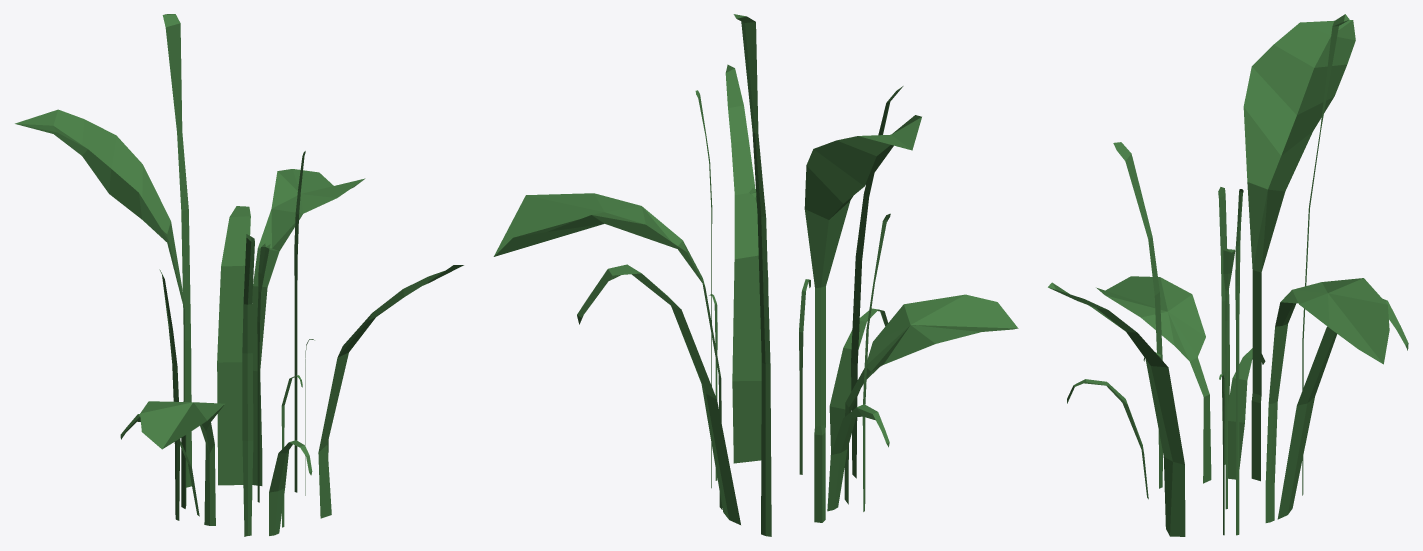
Rendered from Weed02.gltf.
3 views of the same model, side by side, from view 1: azimuth 30°, elevation 25°; view 2: azimuth 150°, elevation 25°; view 3: azimuth 270°, elevation 25° (orthographic). The views are drawn at different scales.
Visible parts, largest first — view 1: Plane; view 2: Plane; view 3: Plane.
Part boxes in pixels (x1,y1,x2,y2): Plane: (15, 14, 463, 536); Plane: (493, 14, 1018, 536); Plane: (1048, 14, 1408, 536).
Size of the model in its own units: 0.9348 by 1.2 by 0.8191.
1 material, 1 textured.
